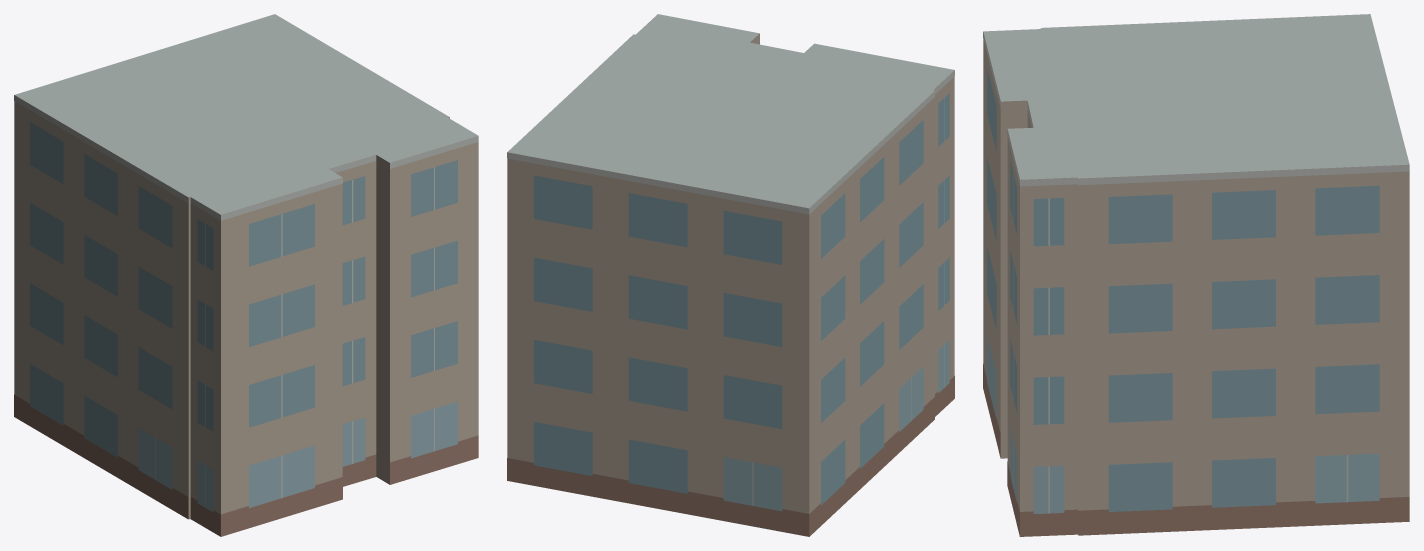
Rendered from survey-upis-32653060.glb.
The picture shows the model from 3 angles, left to right: view 1: azimuth 30°, elevation 25°; view 2: azimuth 150°, elevation 25°; view 3: azimuth 270°, elevation 25°; orthographic projection. The views are drawn at different scales.
Parts seen in each view (by area): view 1: survey-upis-32653060.tmp; view 2: survey-upis-32653060.tmp; view 3: survey-upis-32653060.tmp.
Part boxes in pixels (x1,y1,x2,y2): survey-upis-32653060.tmp: [14, 14, 478, 536]; survey-upis-32653060.tmp: [507, 14, 954, 536]; survey-upis-32653060.tmp: [983, 14, 1409, 536].
Bounding box in the file's own units: 12.96 × 13 × 14.08.
